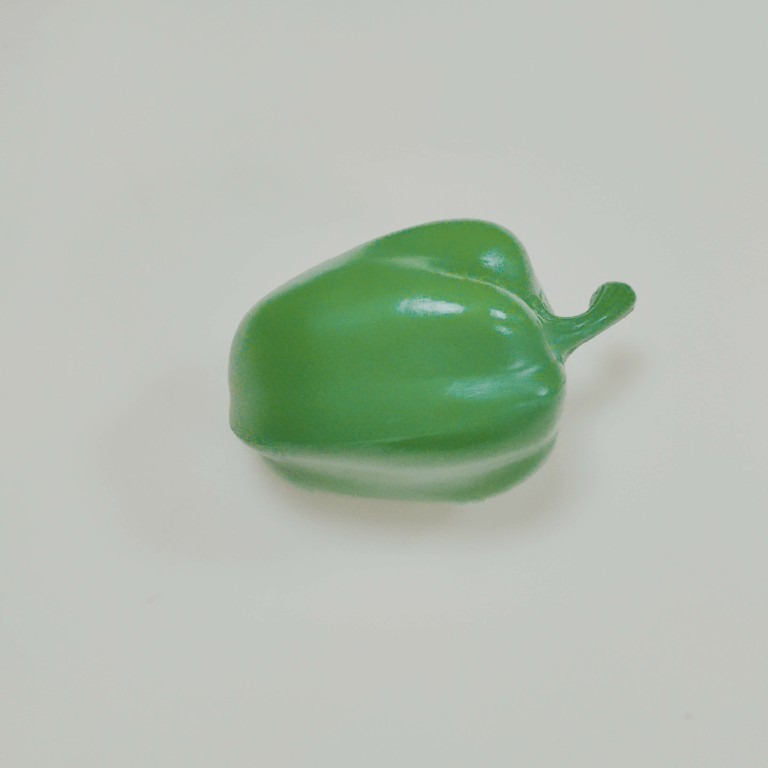fruit_pepper: (222, 211, 639, 509)
